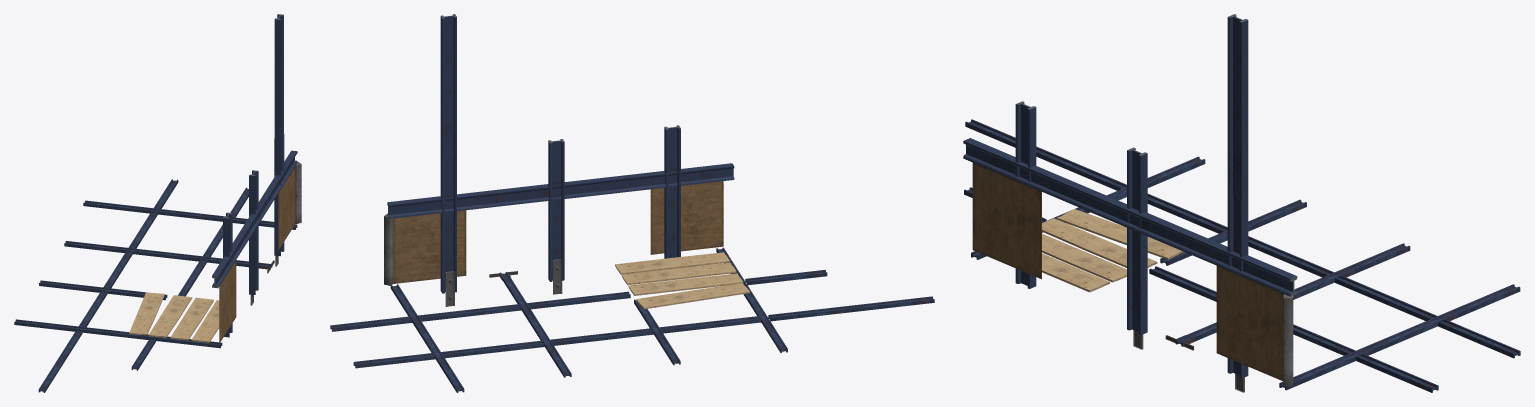
Rendered from BuildingMap_2_0.gltf.
3 renders of one model, left to right at view 1: azimuth 30°, elevation 25°; view 2: azimuth 150°, elevation 25°; view 3: azimuth 270°, elevation 25°, orthographic. The views are drawn at different scales.
Visible parts, largest first — view 1: SM_Building_Pieces_2_SteelRudder213, SM_Building_Pieces_2_SteelRudder199, SM_Wall_Inside_60, SM_Wall_Inside_61, SM_Building_Pieces_2_SteelRudder108, SM_Exterior_1__Plank6, SM_Exterior_1__Plank5, SM_Exterior_1__Plank7, SM_Building_Pieces_2_SteelRudder107, SM_Building_Pieces_2_SteelRudder212, SM_Exterior_1__Plank4, SM_Building_Pieces_2_SteelRudder207 (+20 smaller); view 2: SM_Wall_Inside_60, SM_Wall_Inside_61, SM_Building_Pieces_2_SteelRudder108, SM_Building_Pieces_2_SteelRudder107, SM_Building_Pieces_2_SteelRudder213, SM_Building_Pieces_2_SteelRudder199, SM_Building_Pieces_2_SteelRudder207, SM_Building_Pieces_2_SteelRudder212, SM_Exterior_1__Plank7, SM_Exterior_1__Plank5, SM_Exterior_1__Plank6, SM_Exterior_1__Plank4 (+11 smaller); view 3: SM_Wall_Inside_61, SM_Wall_Inside_60, SM_Building_Pieces_2_SteelRudder108, SM_Building_Pieces_2_SteelRudder213, SM_Building_Pieces_2_SteelRudder199, SM_Building_Pieces_2_SteelRudder107, SM_Building_Pieces_2_SteelRudder207, SM_Exterior_1__Plank6, SM_Building_Pieces_2_SteelRudder212, SM_Exterior_1__Plank7, SM_Exterior_1__Plank5, SM_Exterior_1__Plank4 (+17 smaller).
Boxes of the visible parts, bbox=[...] form: SM_Building_Pieces_2_SteelRudder213: bbox=[274, 14, 283, 138]; SM_Building_Pieces_2_SteelRudder199: bbox=[249, 170, 258, 294]; SM_Wall_Inside_60: bbox=[278, 166, 295, 249]; SM_Wall_Inside_61: bbox=[219, 260, 236, 343]; SM_Building_Pieces_2_SteelRudder108: bbox=[246, 150, 297, 234]; SM_Exterior_1__Plank6: bbox=[148, 295, 192, 337]; SM_Exterior_1__Plank5: bbox=[170, 297, 213, 340]; SM_Exterior_1__Plank7: bbox=[129, 292, 164, 335]; SM_Building_Pieces_2_SteelRudder107: bbox=[212, 222, 251, 288]; SM_Building_Pieces_2_SteelRudder212: bbox=[274, 134, 284, 256]; SM_Exterior_1__Plank4: bbox=[191, 300, 219, 342]; SM_Building_Pieces_2_SteelRudder207: bbox=[223, 212, 232, 337]; SM_Wall_Inside_60: bbox=[393, 210, 466, 283]; SM_Wall_Inside_61: bbox=[650, 181, 723, 254]; SM_Building_Pieces_2_SteelRudder108: bbox=[387, 180, 586, 218]; SM_Building_Pieces_2_SteelRudder107: bbox=[585, 163, 734, 196]; SM_Building_Pieces_2_SteelRudder213: bbox=[440, 14, 456, 156]; SM_Building_Pieces_2_SteelRudder199: bbox=[548, 139, 564, 281]; SM_Building_Pieces_2_SteelRudder207: bbox=[664, 125, 680, 258]; SM_Building_Pieces_2_SteelRudder212: bbox=[440, 154, 456, 293]; SM_Exterior_1__Plank7: bbox=[636, 283, 750, 309]; SM_Exterior_1__Plank5: bbox=[621, 262, 736, 285]; SM_Exterior_1__Plank6: bbox=[628, 273, 743, 295]; SM_Exterior_1__Plank4: bbox=[615, 252, 729, 274]; SM_Wall_Inside_61: bbox=[972, 162, 1041, 279]; SM_Wall_Inside_60: bbox=[1216, 266, 1283, 381]; SM_Building_Pieces_2_SteelRudder108: bbox=[1103, 197, 1297, 296]; SM_Building_Pieces_2_SteelRudder213: bbox=[1227, 14, 1248, 201]; SM_Building_Pieces_2_SteelRudder199: bbox=[1127, 147, 1147, 335]; SM_Building_Pieces_2_SteelRudder107: bbox=[963, 138, 1109, 217]; SM_Building_Pieces_2_SteelRudder207: bbox=[1015, 101, 1036, 288]; SM_Exterior_1__Plank6: bbox=[1042, 218, 1157, 267]; SM_Building_Pieces_2_SteelRudder212: bbox=[1227, 196, 1248, 378]; SM_Exterior_1__Plank7: bbox=[1056, 209, 1183, 259]; SM_Exterior_1__Plank5: bbox=[1042, 233, 1126, 282]; SM_Exterior_1__Plank4: bbox=[1042, 253, 1109, 292].
Size of the model in its own units: 26.16 by 16.92 by 22.87.
Materials: 4 (4 with a texture image).
